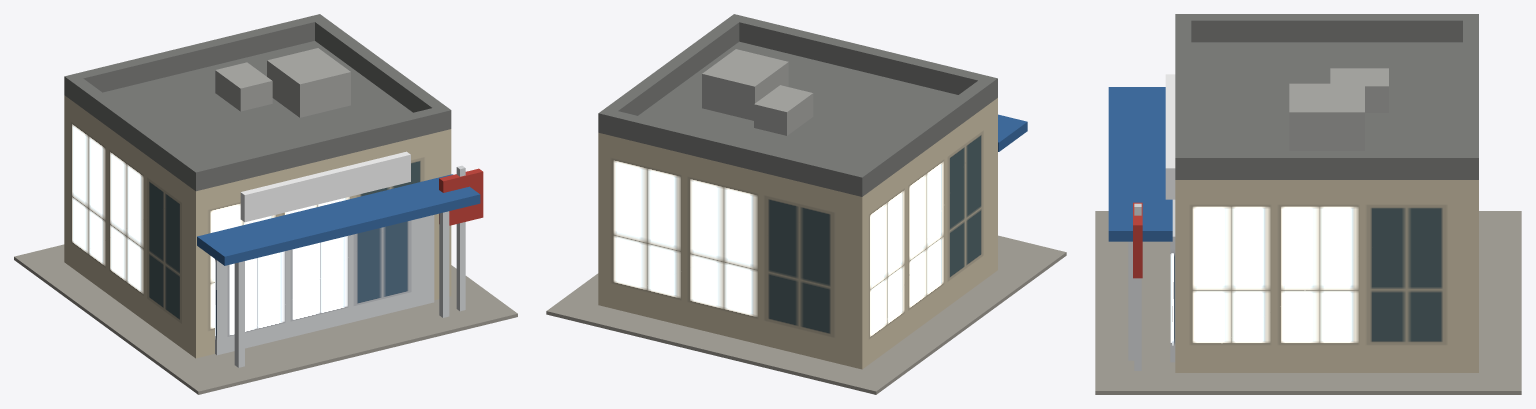
Rendered from cl-atlas.glb.
The picture shows the model from 3 angles, left to right: view 1: azimuth 30°, elevation 25°; view 2: azimuth 150°, elevation 25°; view 3: azimuth 270°, elevation 25°; orthographic projection. The views are drawn at different scales.
Parts seen in each view (by area): view 1: atlas; view 2: atlas; view 3: atlas.
Part boxes in pixels (x1,y1,x2,y2): atlas: [14, 14, 517, 394]; atlas: [546, 14, 1066, 394]; atlas: [1095, 14, 1521, 394].
Size of the model in its own units: 8 by 4.88 by 8.
Materials: 1 (1 with a texture image).
